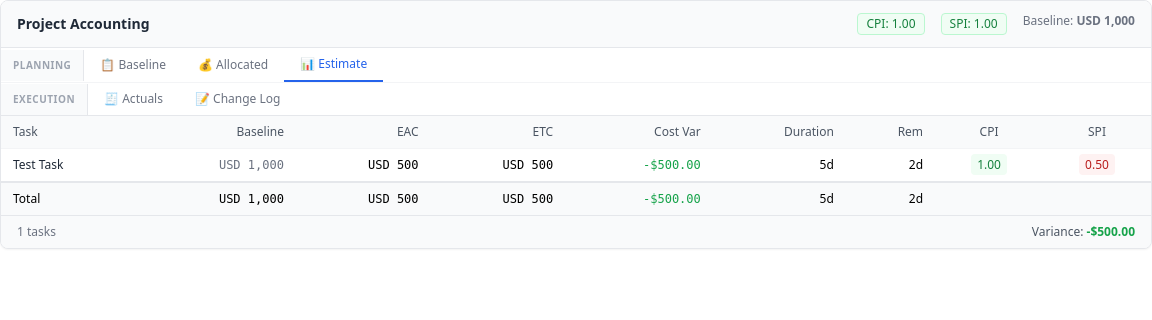
Test case: AccountingDashboard › shows Add Change button on Change Log tab
The width and height of the screenshot is (1152, 320).
// Switch to Change Log tab
Click the button "📝 Change Log" at coordinates (238, 99), box x1=179 y1=83 x2=296 y2=115
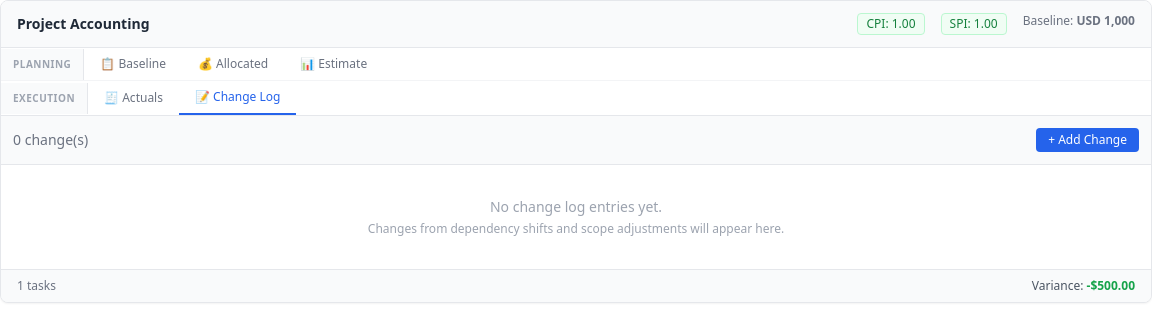
Expected: the button "+ Add Change" is shown, x1=1036 y1=128 x2=1139 y2=152
